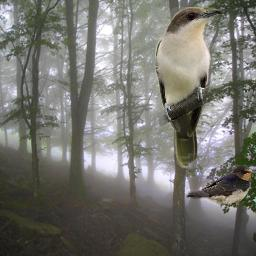Cuckoo: (155, 7, 224, 169)
Swallow: (186, 164, 255, 208)
